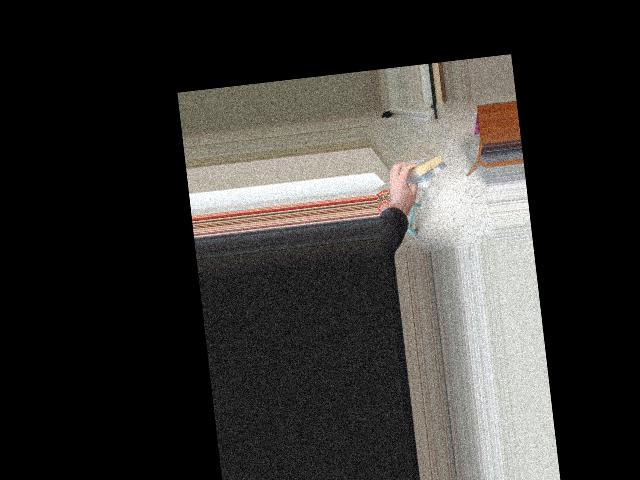cheese: (387, 154, 451, 188)
